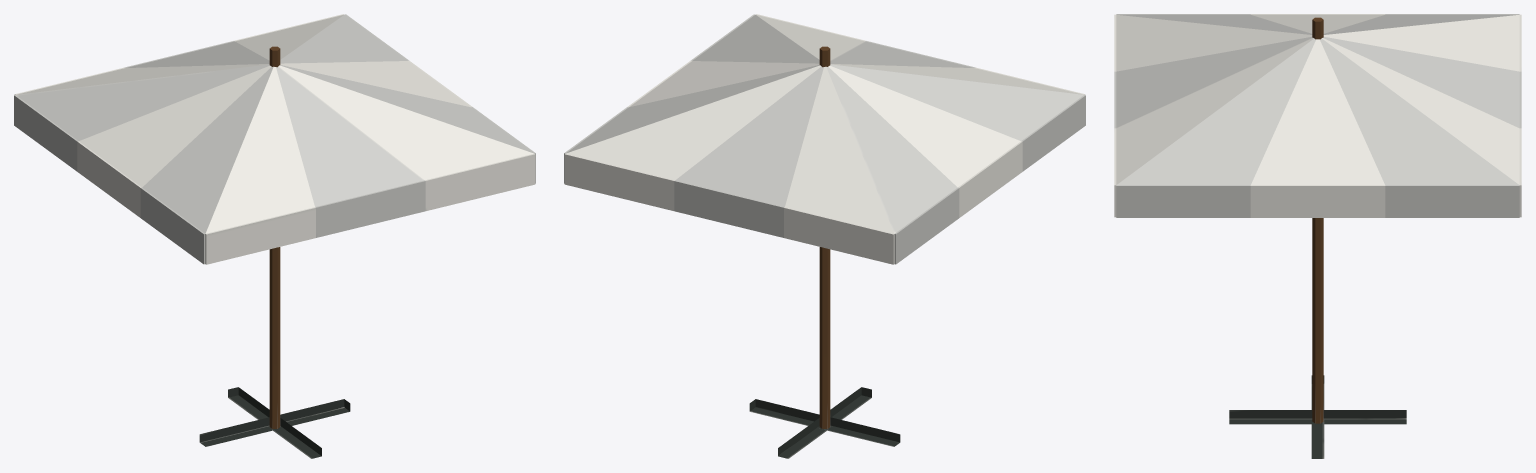
Rendered from slunecnik_ctverec_c6ae6a64.glb.
The picture shows the model from 3 angles, left to right: view 1: azimuth 30°, elevation 25°; view 2: azimuth 150°, elevation 25°; view 3: azimuth 270°, elevation 25°; orthographic projection. The views are drawn at different scales.
Visible parts, largest first — view 1: dum; view 2: dum; view 3: dum.
Boxes of the visible parts, left/top/right/bottom form: dum: left=14, top=14, right=535, bottom=458; dum: left=564, top=14, right=1085, bottom=458; dum: left=1114, top=14, right=1521, bottom=458.
Bounding box in the file's own units: 2.52 × 2.74 × 2.52.
1 material, 1 textured.
